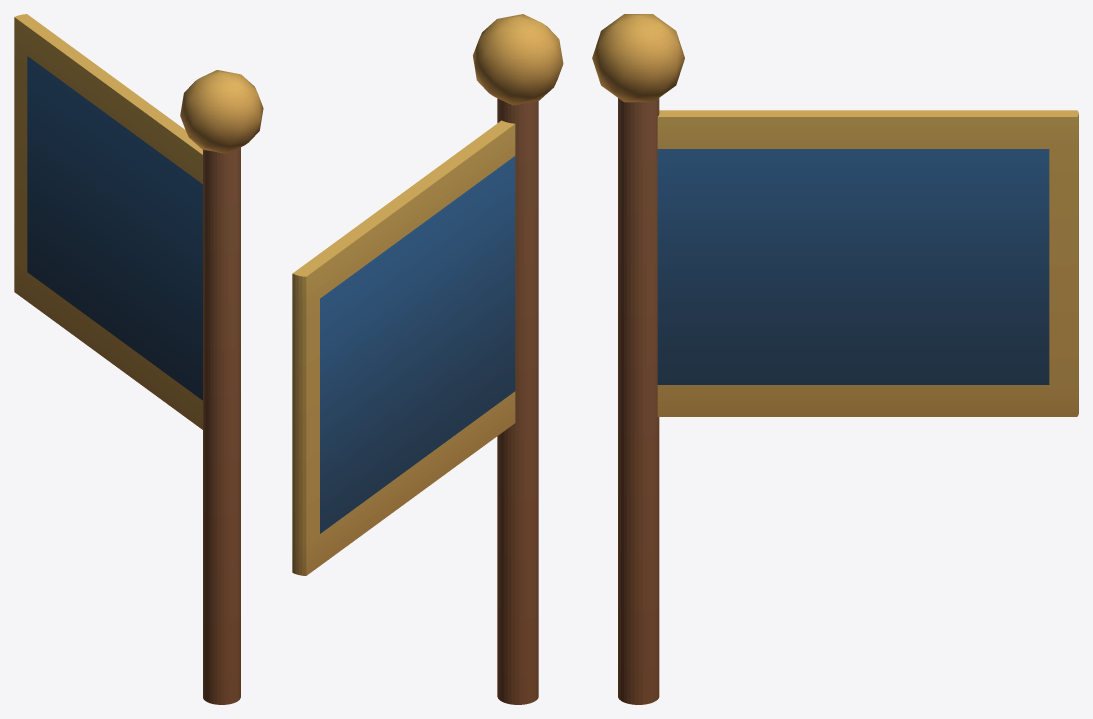
The model's file is Flag.fbx.
The picture shows the model from 3 angles, left to right: view 1: azimuth 30°, elevation 25°; view 2: azimuth 150°, elevation 25°; view 3: azimuth 270°, elevation 25°; orthographic projection. The views are drawn at different scales.
Visible parts, largest first — view 1: Cylinder, Icosphere; view 2: Cylinder, Icosphere; view 3: Cylinder, Icosphere.
Boxes of the visible parts, x1,y1,x2,y2 form: Cylinder: (14,14,240,704); Icosphere: (180,70,263,153); Cylinder: (292,98,538,704); Icosphere: (473,14,563,105); Cylinder: (618,98,1078,704); Icosphere: (592,14,684,102).
Bounding box in the file's own units: 0.2513 × 2.13 × 1.38.
